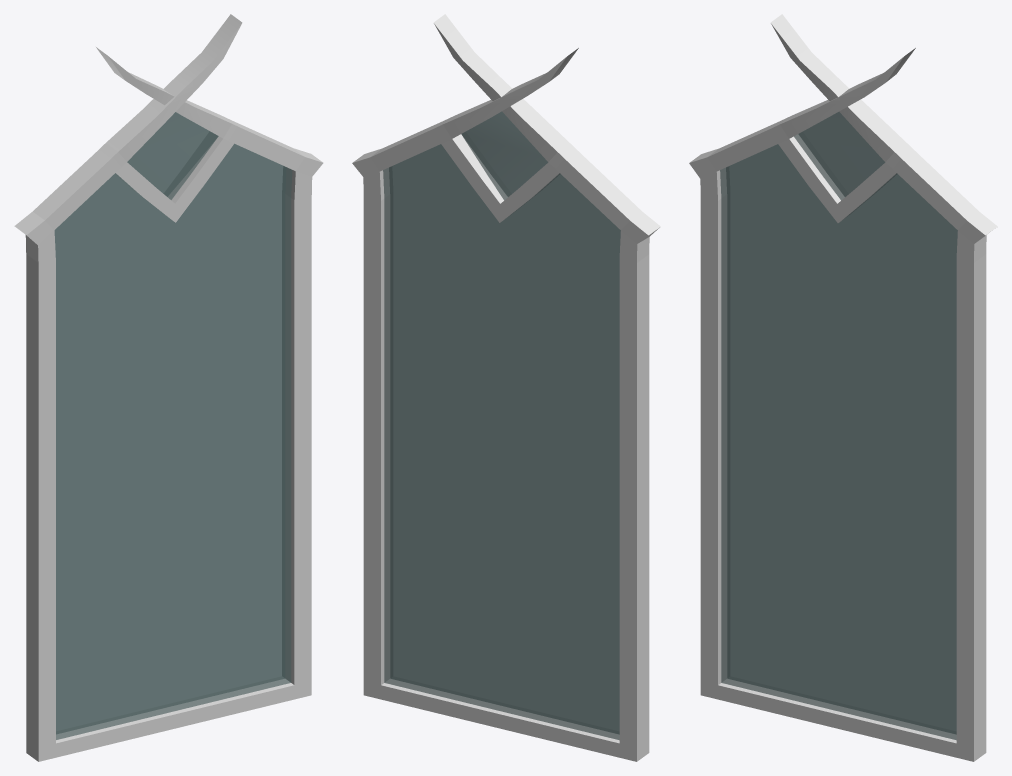
The model's file is VentanasNivel3.fbx.
3 views of the same model, side by side, from view 1: azimuth 30°, elevation 25°; view 2: azimuth 150°, elevation 25°; view 3: azimuth 330°, elevation 25° (orthographic).
Visible parts, largest first — view 1: Espejo; view 2: Espejo; view 3: Espejo.
Part boxes in pixels (left/top/right/bottom): Espejo: left=14, top=14, right=323, bottom=761; Espejo: left=352, top=14, right=660, bottom=761; Espejo: left=689, top=14, right=997, bottom=761.
Bounding box in the file's own units: 85.57 × 190 × 6.79.
